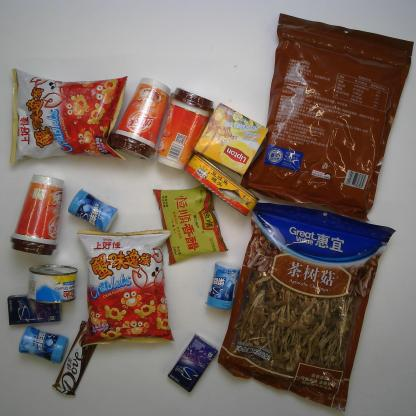Canned Food: (179, 148, 261, 219), (23, 262, 80, 308)
Chocolate: (48, 316, 106, 401)
Dried Food: (213, 198, 398, 413), (238, 9, 416, 224)
Gum: (167, 333, 221, 396), (65, 188, 121, 236), (14, 324, 72, 364), (5, 288, 63, 326), (204, 260, 244, 310)
Instant Drink: (191, 101, 273, 178), (108, 75, 176, 161), (5, 173, 71, 261), (154, 82, 218, 172)
Puffed Food: (73, 222, 180, 348), (3, 64, 132, 162)
Seasoner: (152, 180, 231, 266)
